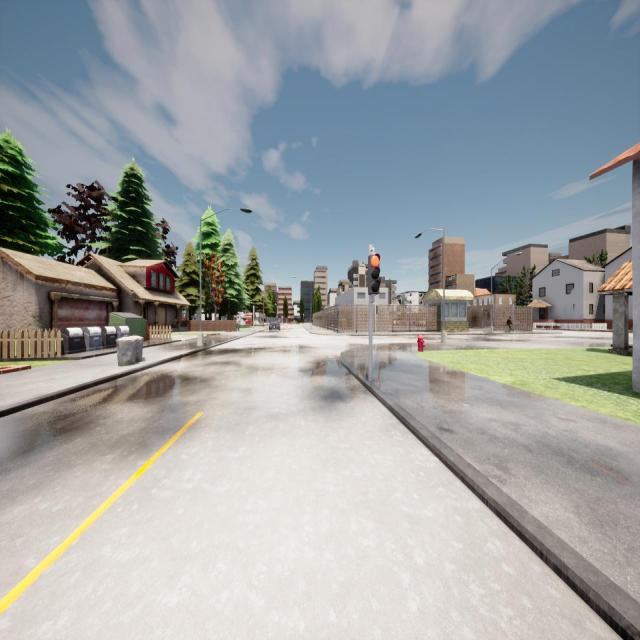Pedestrian: (507, 316, 512, 332), (236, 316, 240, 331)
Vehicle: (269, 319, 280, 331)
traffic_light: (368, 255, 379, 294), (376, 306, 378, 314), (254, 308, 255, 314)
